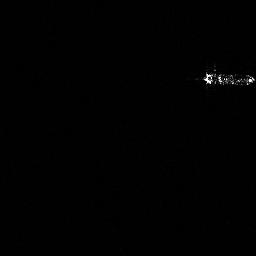ship: (201, 66, 255, 89)
